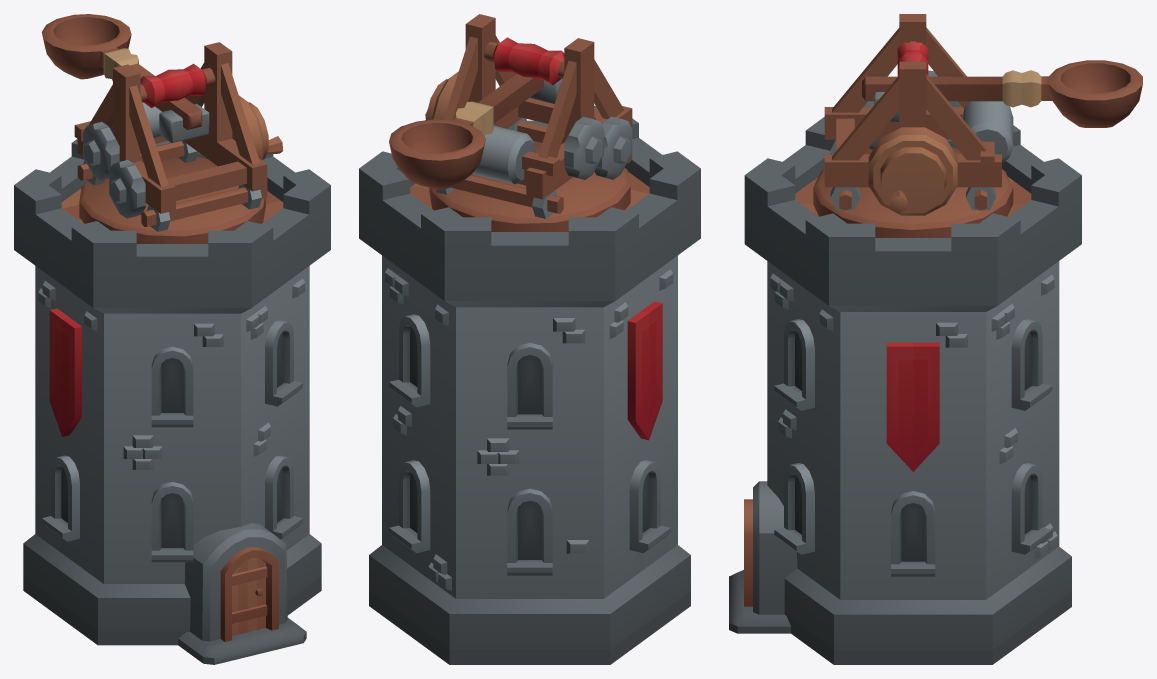
File: medieval-tower-catapult.glb
3 renders of one model, left to right at view 1: azimuth 30°, elevation 25°; view 2: azimuth 150°, elevation 25°; view 3: azimuth 270°, elevation 25°, orthographic. The views are drawn at different scales.
Parts seen in each view (by area): view 1: building_tower_catapult_red, catapult_turret_red, catapult_arm_red; view 2: building_tower_catapult_red, catapult_turret_red, catapult_arm_red; view 3: building_tower_catapult_red, catapult_turret_red, catapult_arm_red.
Part boxes in pixels (bbox=[...]): building_tower_catapult_red: bbox=[14, 139, 330, 664]; catapult_turret_red: bbox=[74, 42, 283, 243]; catapult_arm_red: bbox=[42, 14, 209, 142]; building_tower_catapult_red: bbox=[359, 106, 700, 664]; catapult_turret_red: bbox=[425, 14, 632, 231]; catapult_arm_red: bbox=[389, 74, 562, 189]; building_tower_catapult_red: bbox=[729, 117, 1081, 664]; catapult_turret_red: bbox=[813, 14, 1013, 237]; catapult_arm_red: bbox=[862, 60, 1142, 127].
Bounding box in the file's own units: 0.9298 × 1.96 × 1.3.
